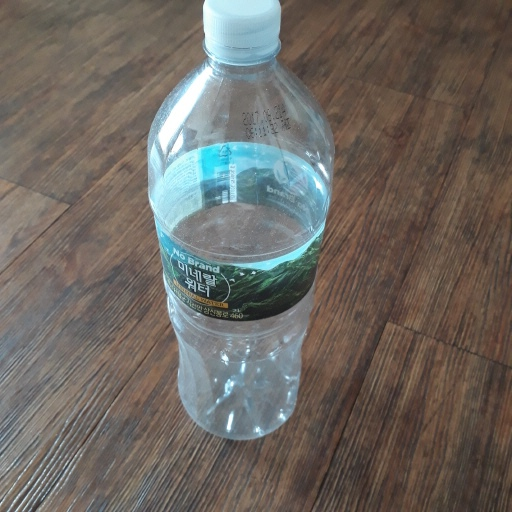Plastic_0: (146, 1, 334, 441)
